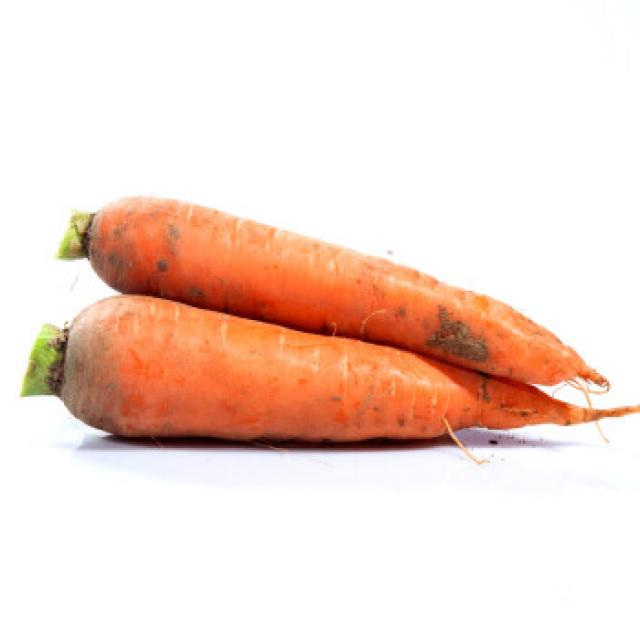Carrot: (91, 198, 612, 387), (68, 294, 640, 444)
